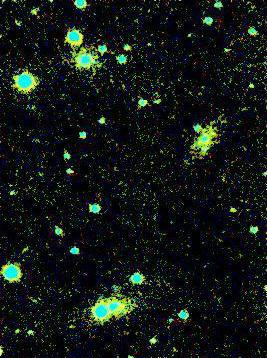star: (0, 322, 30, 352)
